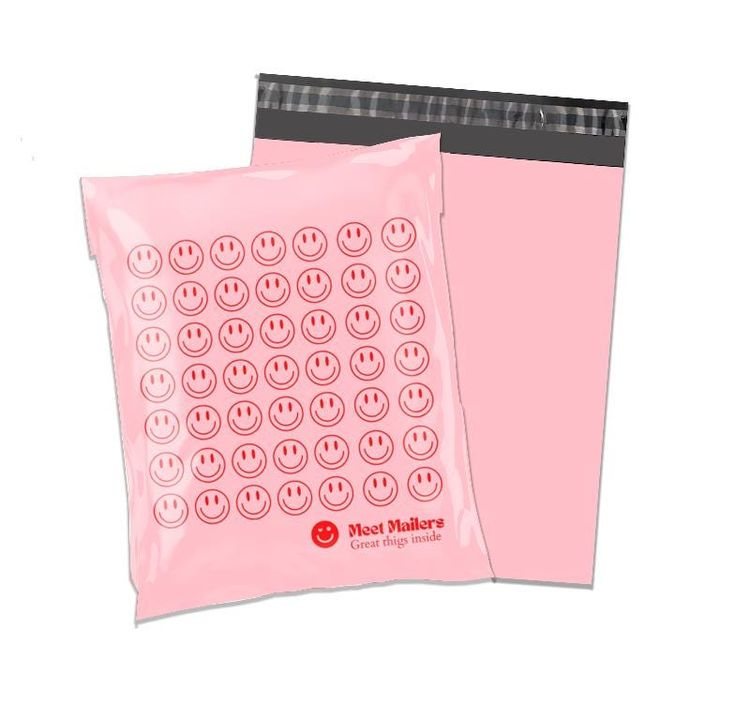Parcel: (219, 73, 629, 615), (78, 120, 491, 620)
